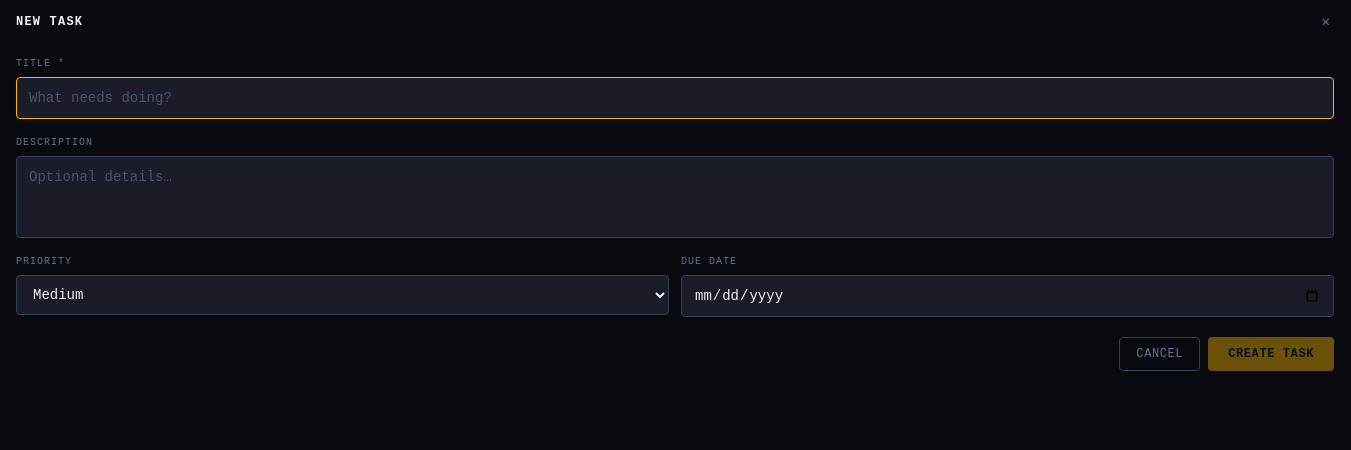
Test: TaskForm — create mode › keeps form open and shows error on create failure
Type "My task" into the field with placeholder "What needs doing?" at {"x": 675, "y": 98}, box [16, 77, 1334, 119]
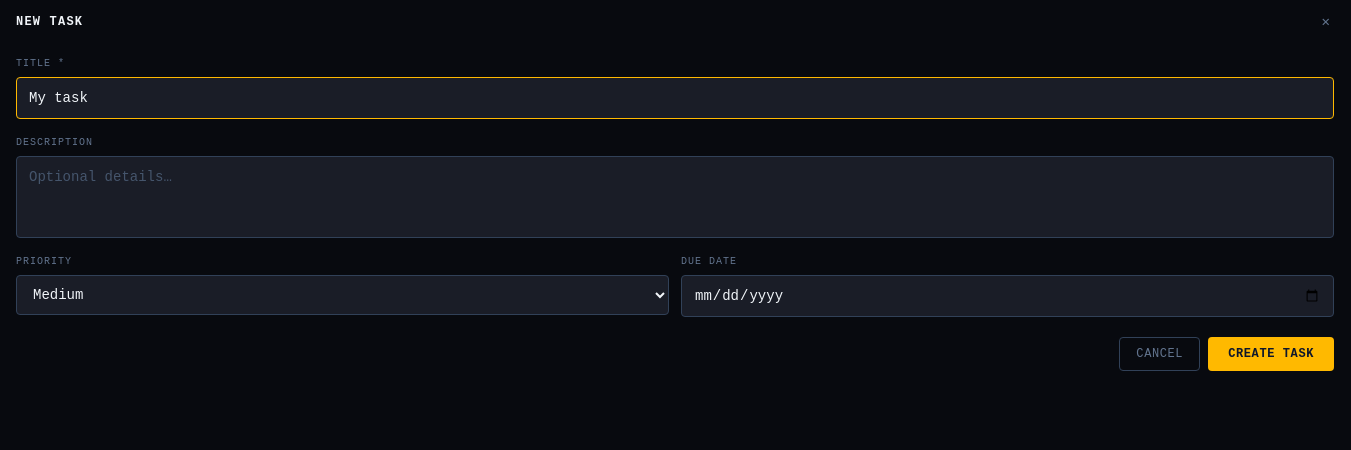
Click the button "Create task" at {"x": 1271, "y": 354}, box [1208, 337, 1334, 371]
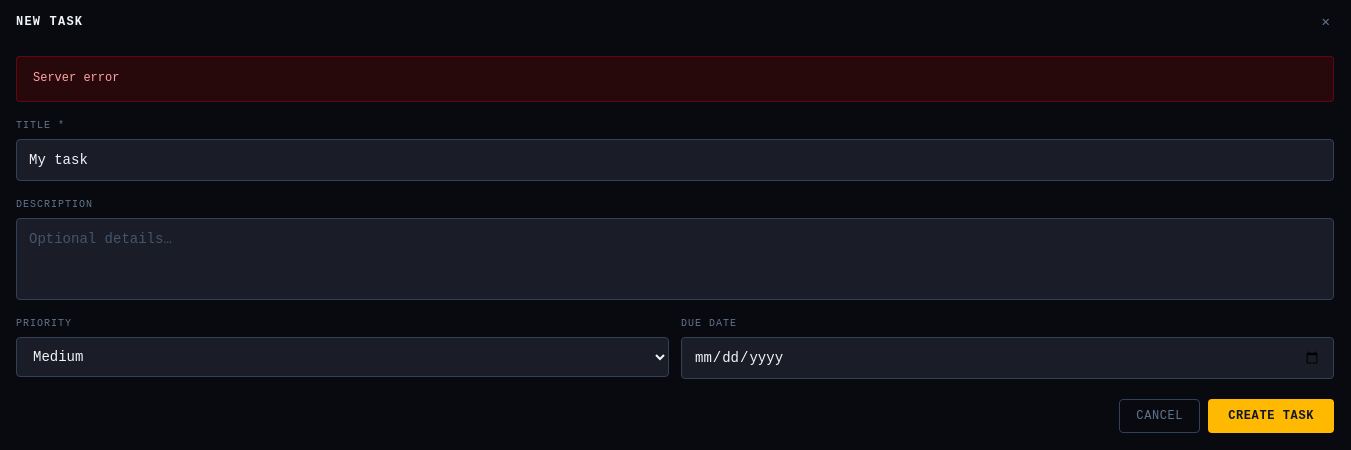
Result: the text "Server error" is shown at [16, 56, 1334, 102]
